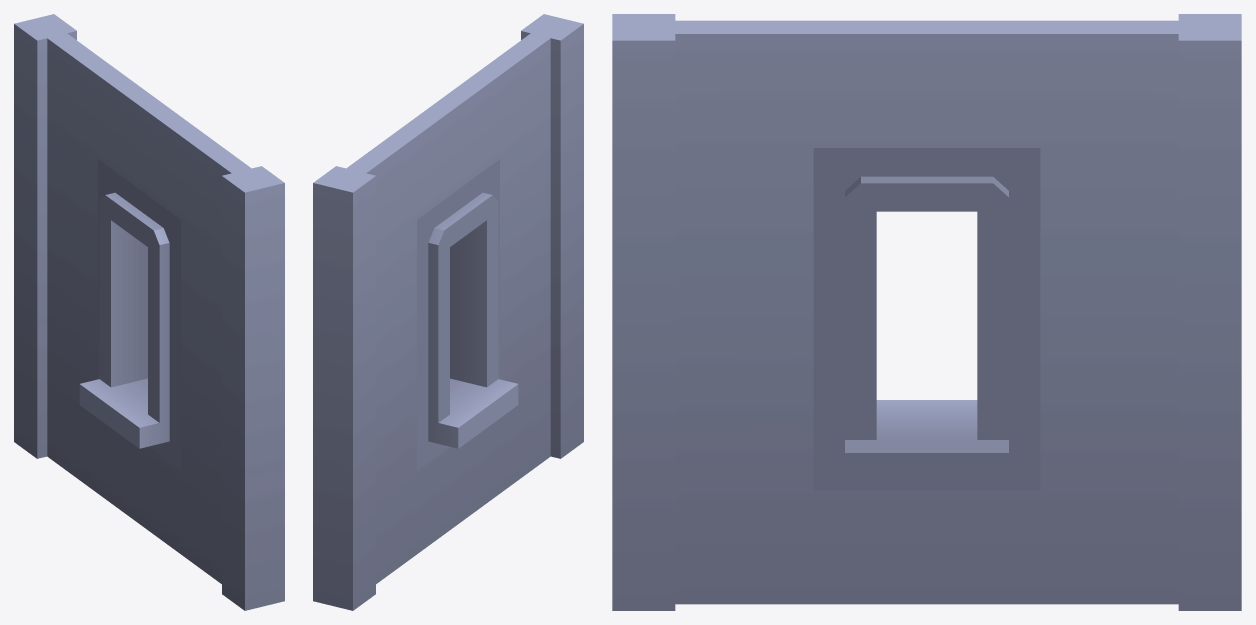
The model's file is wall-wood-window-small.glb.
The picture shows the model from 3 angles, left to right: view 1: azimuth 30°, elevation 25°; view 2: azimuth 150°, elevation 25°; view 3: azimuth 270°, elevation 25°; orthographic projection. The views are drawn at different scales.
Parts seen in each view (by area): view 1: wall-wood-window-small; view 2: wall-wood-window-small; view 3: wall-wood-window-small.
Part boxes in pixels (left/top/right/bottom): wall-wood-window-small: left=14, top=14, right=284, bottom=610; wall-wood-window-small: left=313, top=14, right=583, bottom=610; wall-wood-window-small: left=612, top=14, right=1241, bottom=610.
Bounding box in the file's own units: 0.2 × 1 × 1.
1 material, 1 textured.
